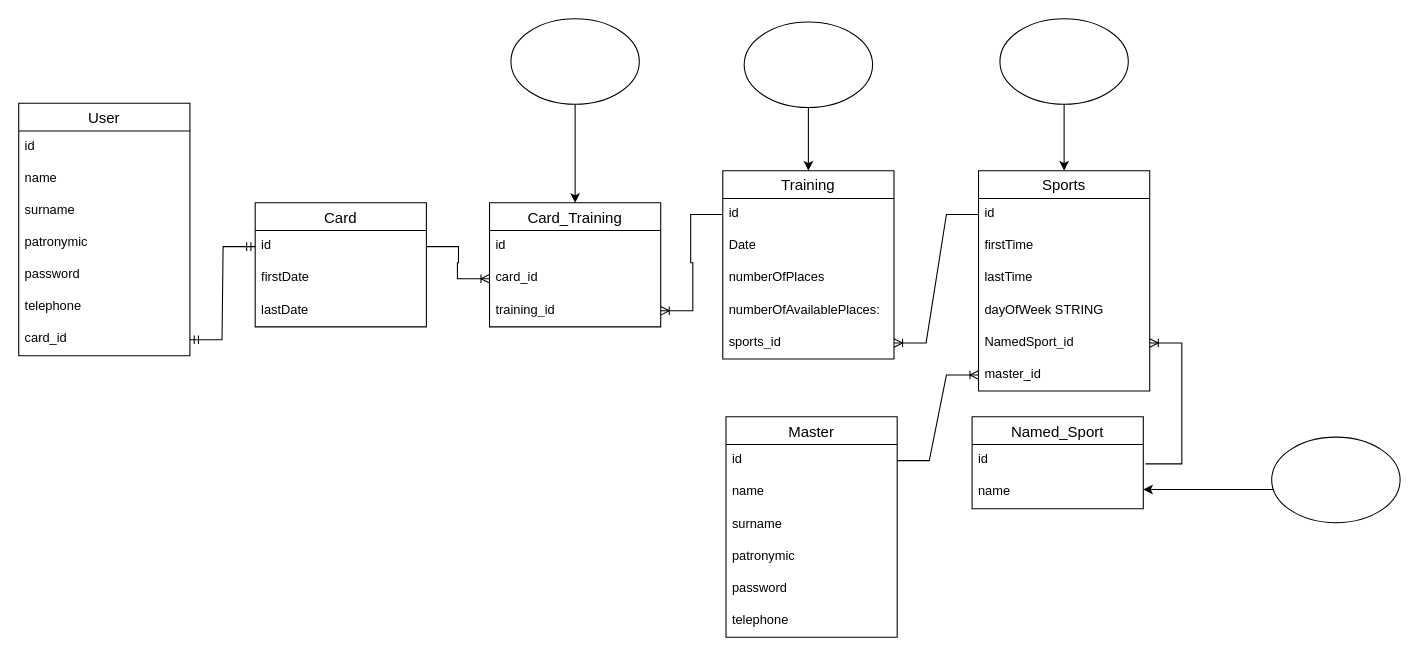
Image size: 1419x659. Some labels were removed from this diagram. Each missing label, with the centre of its shape:
Занятия в конкретный день: the point at 808,64
Названия доступных тренировок: the point at 1335,479
Расписание на неделю: the point at 1063,61
Связь между занятиями и картой: the point at 574,61
